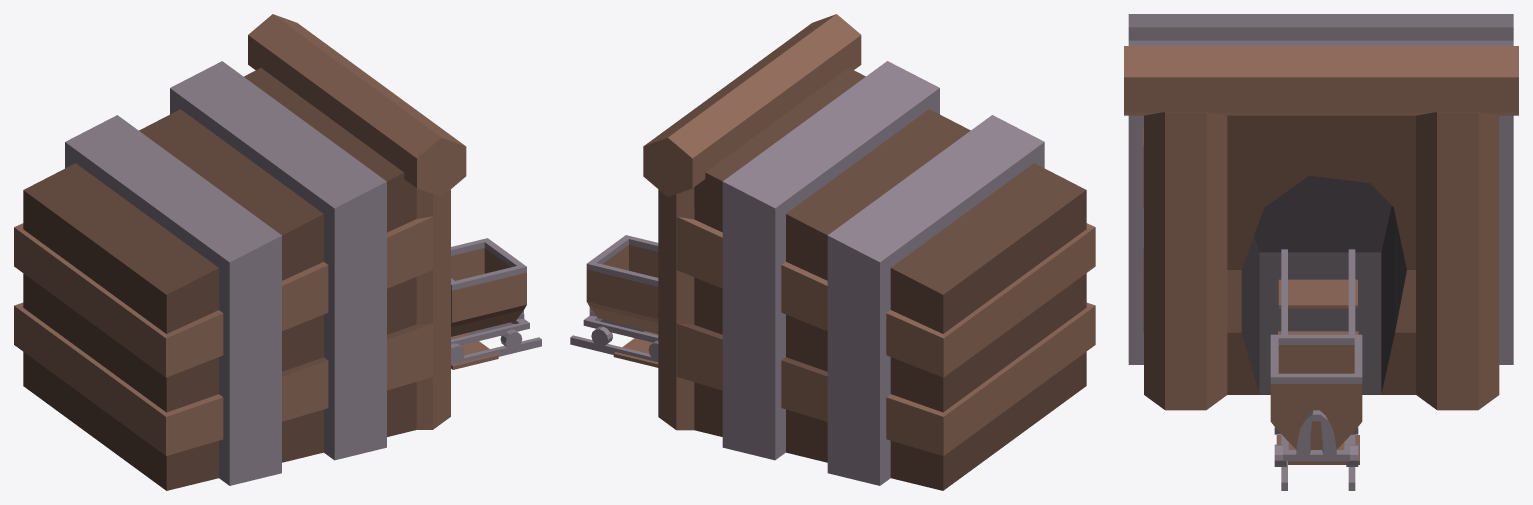
Rendered from Gold_Mine (1).fbx.
3 renders of one model, left to right at view 1: azimuth 30°, elevation 25°; view 2: azimuth 150°, elevation 25°; view 3: azimuth 270°, elevation 25°, orthographic. The views are drawn at different scales.
Visible parts, largest first — view 1: Cube; view 2: Cube; view 3: Cube.
Boxes of the visible parts, left/top/right/bottom form: Cube: left=14, top=14, right=541, bottom=490; Cube: left=570, top=14, right=1095, bottom=490; Cube: left=1124, top=14, right=1518, bottom=490.
Size of the model in its own units: 616 by 405 by 415.
